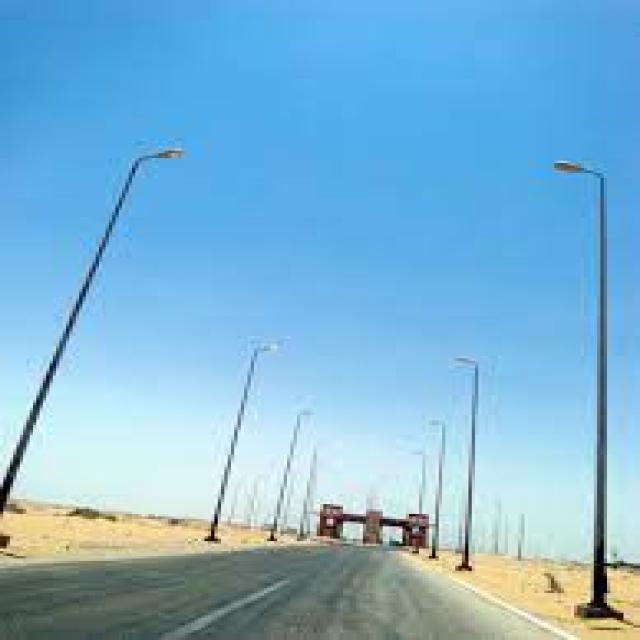Street Light: (3, 146, 185, 531), (544, 158, 617, 618), (205, 344, 287, 538), (448, 354, 482, 568), (419, 418, 449, 558)
